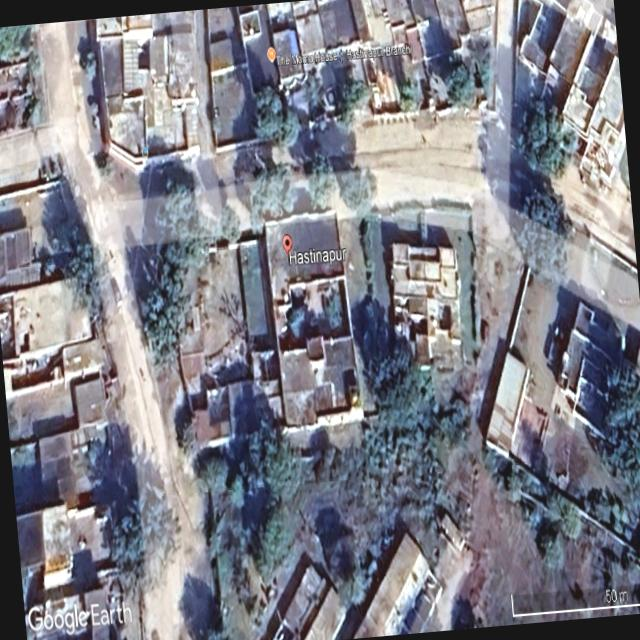objects-ruins-artifacts: (32, 103, 351, 360), (420, 286, 612, 548)
